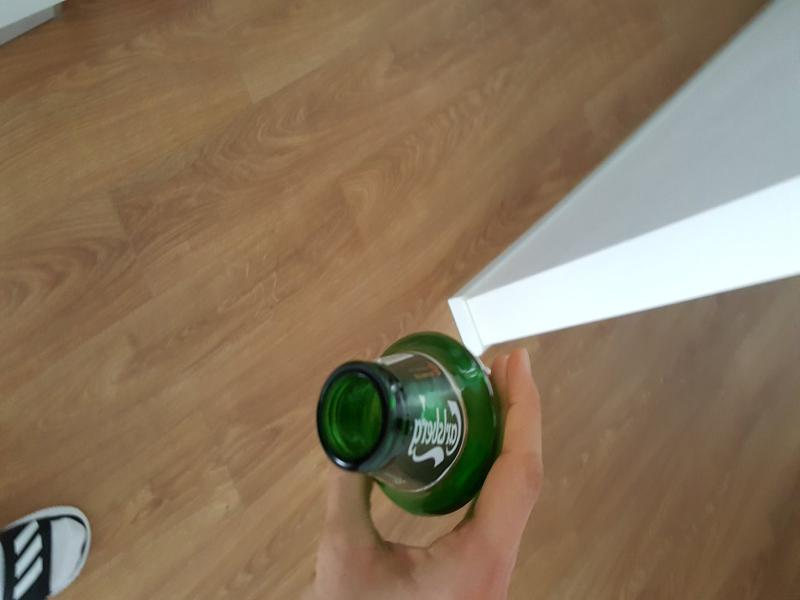Beer: (316, 330, 501, 520)
